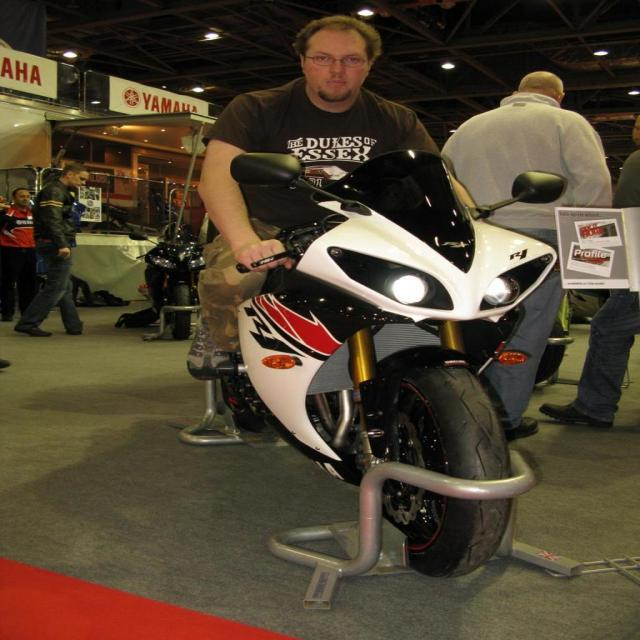bus: (180, 118, 558, 620), (123, 222, 210, 336)
